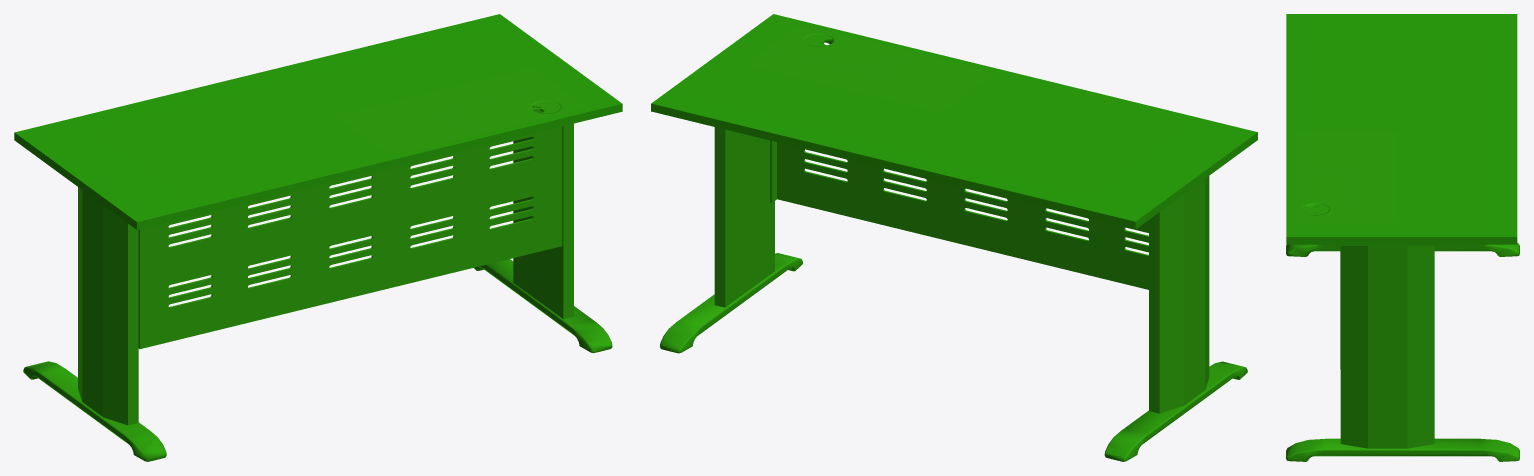
The model's file is TableLong.fbx.
3 renders of one model, left to right at view 1: azimuth 30°, elevation 25°; view 2: azimuth 150°, elevation 25°; view 3: azimuth 270°, elevation 25°, orthographic. The views are drawn at different scales.
Parts seen in each view (by area): view 1: Long_board_low, Long_cover_low, Long_legs_low, Long_stands_low; view 2: Long_board_low, Long_legs_low, Long_cover_low, Long_stands_low; view 3: Long_board_low, Long_legs_low, Long_stands_low, Long_bars_low, Medium_hole_low.001.
Boxes of the visible parts, x1,y1,x2,y2 form: Long_board_low: [14, 14, 622, 229]; Long_cover_low: [138, 110, 562, 348]; Long_legs_low: [78, 123, 573, 425]; Long_stands_low: [23, 259, 612, 461]; Long_board_low: [651, 14, 1257, 229]; Long_legs_low: [714, 127, 1209, 413]; Long_cover_low: [770, 140, 1148, 289]; Long_stands_low: [660, 253, 1247, 461]; Long_board_low: [1286, 14, 1517, 244]; Long_legs_low: [1340, 246, 1434, 448]; Long_stands_low: [1286, 242, 1519, 461]; Long_bars_low: [1316, 244, 1487, 245]; Medium_hole_low.001: [1300, 203, 1330, 215].
Size of the model in its own units: 160 by 70.89 by 76.44.
